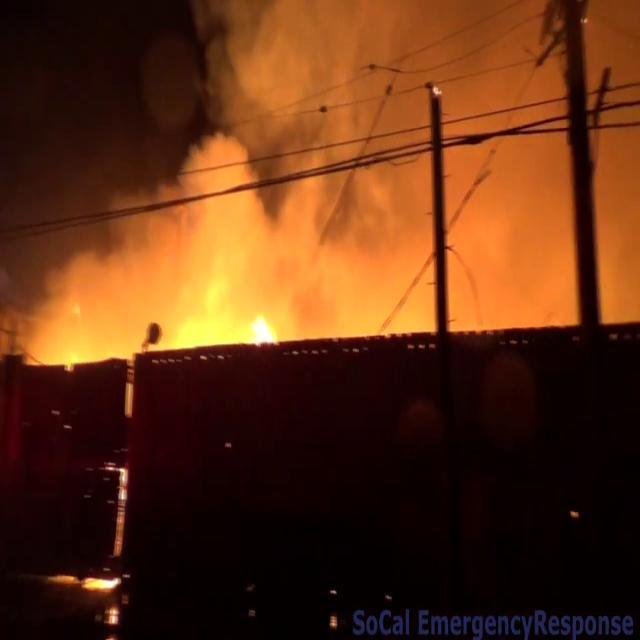Smoke: (4, 0, 632, 318)
